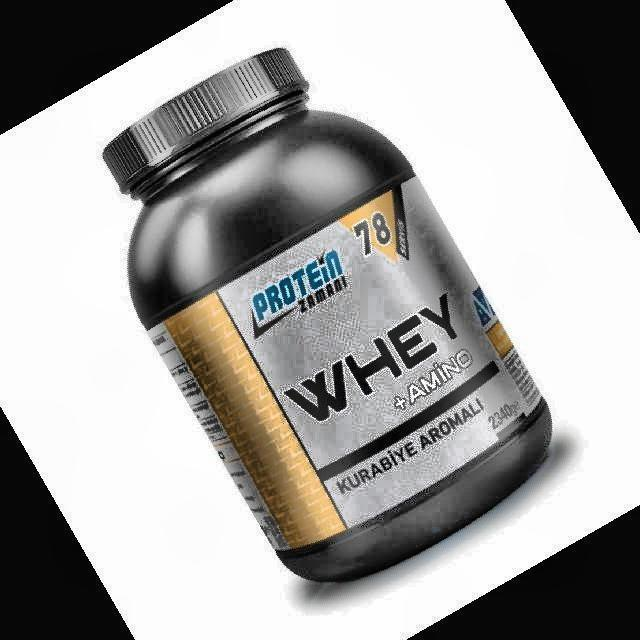plastic: (104, 48, 551, 581)
